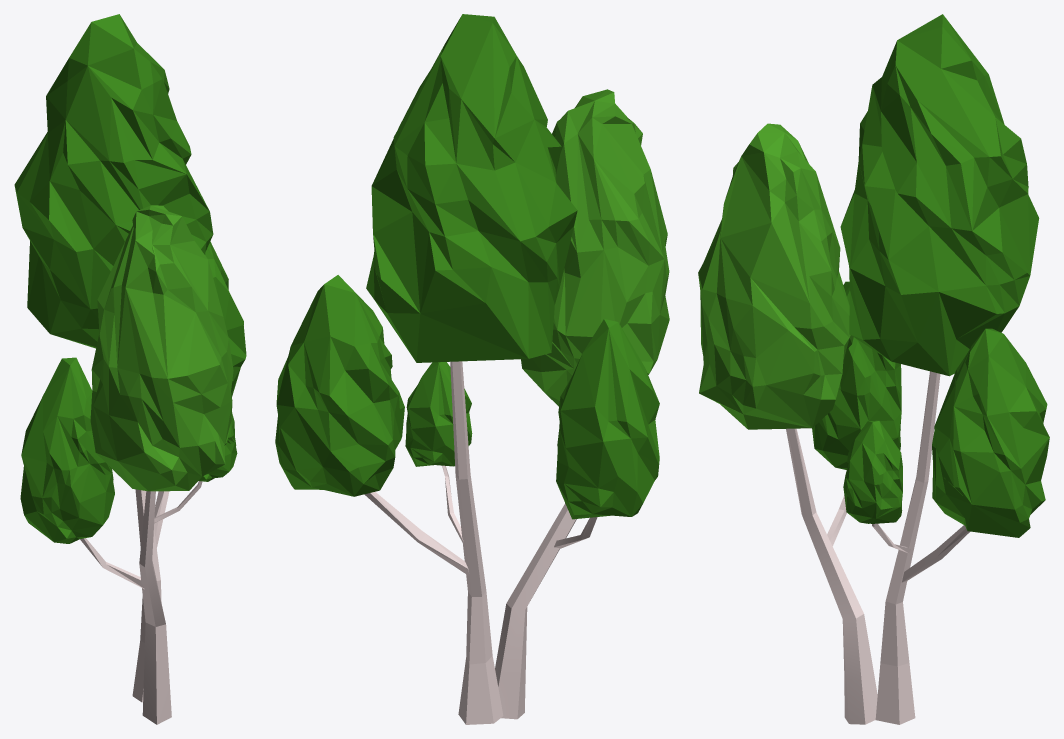
The model's file is Birch_00.FBX.
3 renders of one model, left to right at view 1: azimuth 30°, elevation 25°; view 2: azimuth 150°, elevation 25°; view 3: azimuth 270°, elevation 25°, orthographic. The views are drawn at different scales.
Parts seen in each view (by area): view 1: Leaves_03, Leaves_00, Leaves_01, Trunk, Leaves_02, Leaves_04; view 2: Leaves_03, Leaves_00, Leaves_02, Leaves_01, Trunk, Leaves_04; view 3: Leaves_03, Leaves_00, Leaves_02, Trunk, Leaves_01, Leaves_04.
Boxes of the visible parts, x1,y1,x2,y2 form: Leaves_03: (14,14,213,348); Leaves_00: (90,205,233,491); Leaves_01: (20,357,114,543); Trunk: (80,481,202,724); Leaves_02: (205,241,246,397); Leaves_04: (198,414,237,481); Leaves_03: (366,14,577,362); Leaves_00: (521,89,669,406); Leaves_02: (275,275,404,496); Leaves_01: (556,319,659,519); Trunk: (364,361,597,724); Leaves_04: (405,362,472,466); Leaves_03: (840,14,1039,376); Leaves_00: (698,123,853,429); Leaves_02: (932,328,1049,537); Trunk: (786,371,970,724); Leaves_01: (812,281,901,469); Leaves_04: (843,420,902,523).
Size of the model in its own units: 33.93 by 80 by 36.66.
